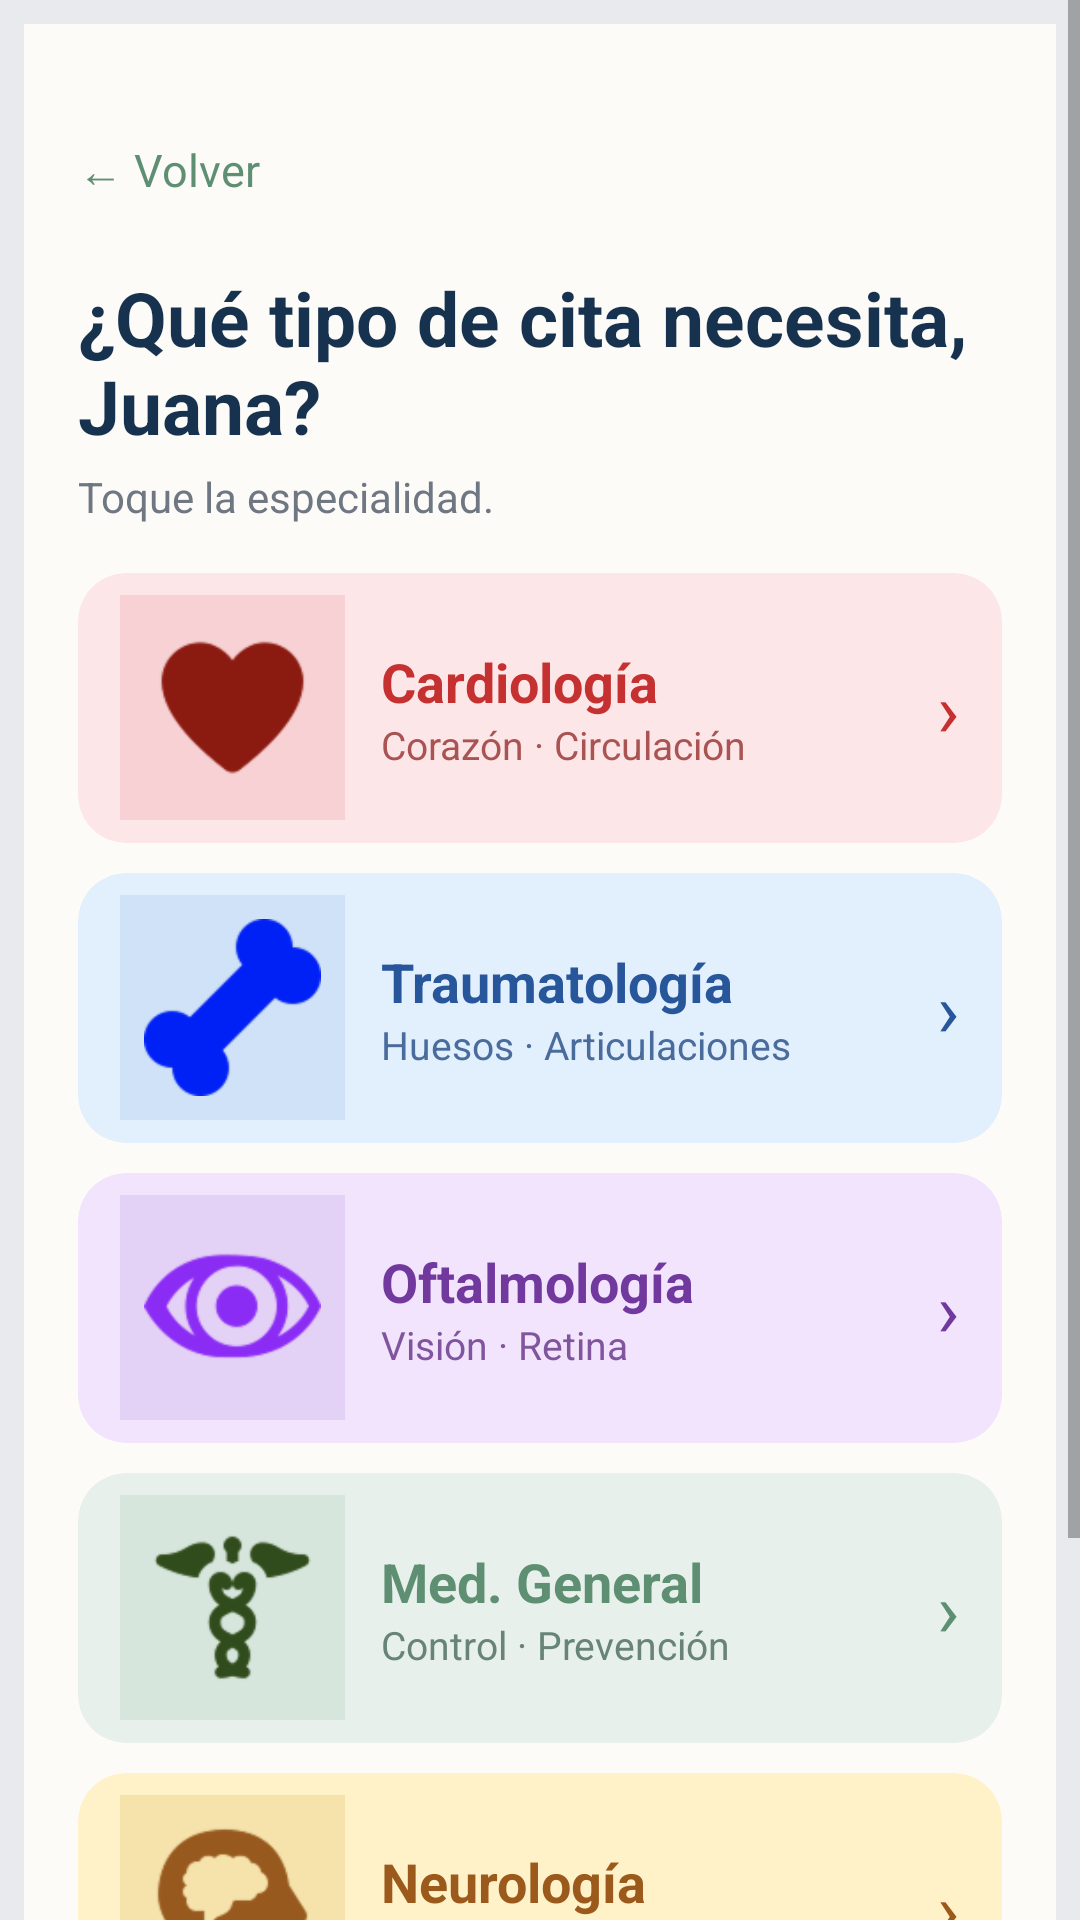

Where icons sit on this 1080w x 1920h app screen, as bbox=(x1, y1, x2, y2):
Medicina General: bbox=(120, 1495, 345, 1720)
